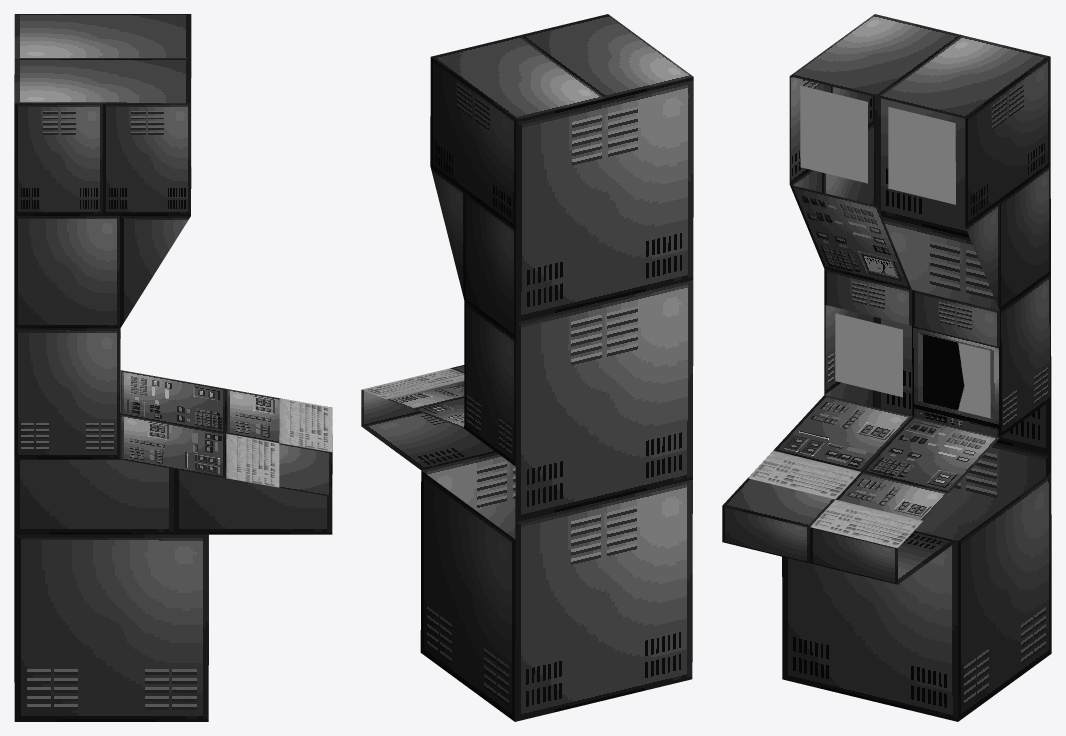
Rendered from primary_151.glb.
The picture shows the model from 3 angles, left to right: view 1: azimuth 30°, elevation 25°; view 2: azimuth 150°, elevation 25°; view 3: azimuth 270°, elevation 25°; orthographic projection. The views are drawn at different scales.
Parts seen in each view (by area): view 1: Object; view 2: Object; view 3: Object.
Part boxes in pixels (<box>): Object: <box>14,14,332,721</box>; Object: <box>361,14,693,721</box>; Object: <box>722,14,1051,721</box>.
Bounding box in the file's own units: 1.7 × 3.05 × 1.53.
Materials: 26 (26 with a texture image).
